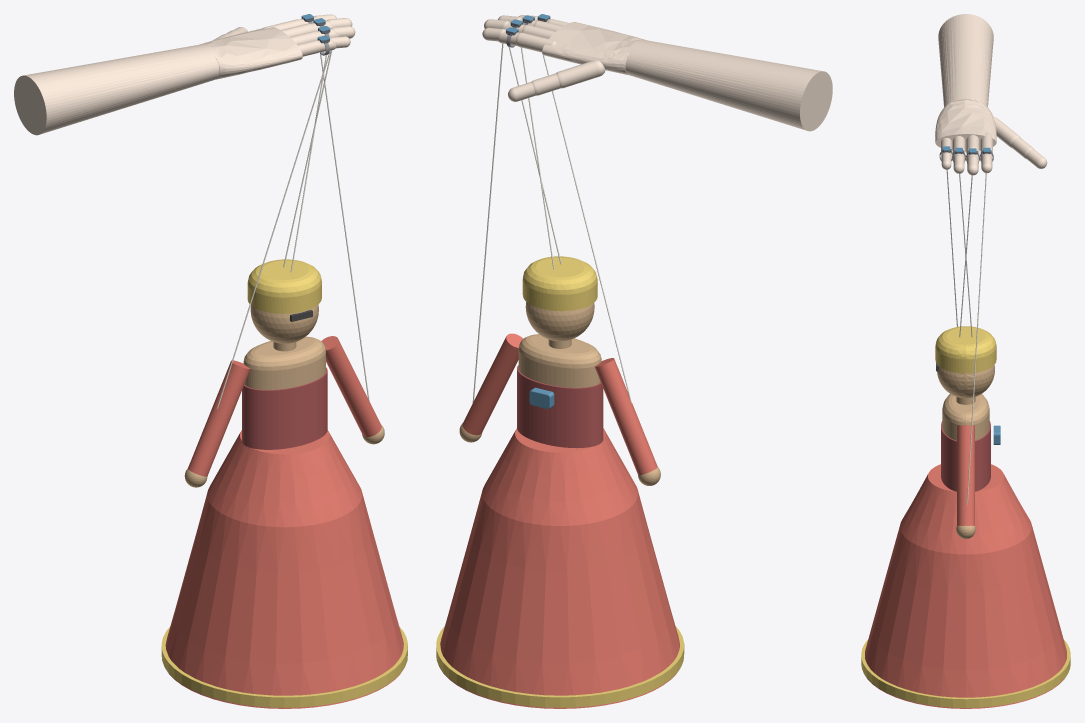
The model's file is puppet_iso.glb.
The picture shows the model from 3 angles, left to right: view 1: azimuth 30°, elevation 25°; view 2: azimuth 150°, elevation 25°; view 3: azimuth 270°, elevation 25°; orthographic projection. The views are drawn at different scales.
Visible parts, largest first — view 1: 000_skirt, 013_forearm, 003_waistcoat, 001_skirt band, 006_turban, 002_torso, 014_hand, 008_arm, 010_arm, 005_head, 044_cable, 045_cable; view 2: 000_skirt, 013_forearm, 003_waistcoat, 001_skirt band, 006_turban, 002_torso, 014_hand, 008_arm, 010_arm, 005_head, 027_thumb 0, 045_cable (+1 smaller); view 3: 000_skirt, 013_forearm, 001_skirt band, 006_turban, 014_hand, 010_arm, 003_waistcoat, 002_torso, 005_head, 045_cable, 027_thumb 0.
Part boxes in pixels (<box>): 000_skirt: <box>165,430,403,708</box>; 013_forearm: <box>14,44,219,135</box>; 003_waistcoat: <box>242,367,327,449</box>; 001_skirt band: <box>161,626,407,707</box>; 006_turban: <box>247,259,321,313</box>; 002_torso: <box>243,336,325,389</box>; 014_hand: <box>200,27,302,79</box>; 008_arm: <box>188,360,250,476</box>; 010_arm: <box>321,336,381,436</box>; 005_head: <box>250,304,318,343</box>; 044_cable: <box>216,50,331,409</box>; 045_cable: <box>320,53,369,400</box>; 000_skirt: <box>440,428,680,708</box>; 013_forearm: <box>625,39,832,131</box>; 003_waistcoat: <box>517,365,603,448</box>; 001_skirt band: <box>436,626,684,707</box>; 006_turban: <box>522,256,597,311</box>; 002_torso: <box>518,334,601,387</box>; 014_hand: <box>542,22,644,75</box>; 008_arm: <box>594,358,657,474</box>; 010_arm: <box>462,333,523,435</box>; 005_head: <box>525,302,594,341</box>; 027_thumb 0: <box>556,60,605,88</box>; 045_cable: <box>472,43,503,402</box>; 000_skirt: <box>865,464,1066,708</box>; 013_forearm: <box>938,14,993,106</box>; 001_skirt band: <box>861,639,1070,707</box>; 006_turban: <box>935,326,996,373</box>; 014_hand: <box>935,100,996,151</box>; 010_arm: <box>957,425,974,525</box>; 003_waistcoat: <box>941,421,990,491</box>; 002_torso: <box>942,394,989,440</box>; 005_head: <box>937,365,994,398</box>; 045_cable: <box>967,173,986,504</box>; 027_thumb 0: <box>993,117,1020,147</box>.
Size of the model in its own units: 0.511 by 0.867 by 0.3019.
